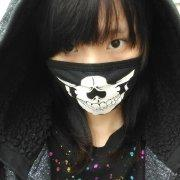OK: (49, 22, 141, 115)
